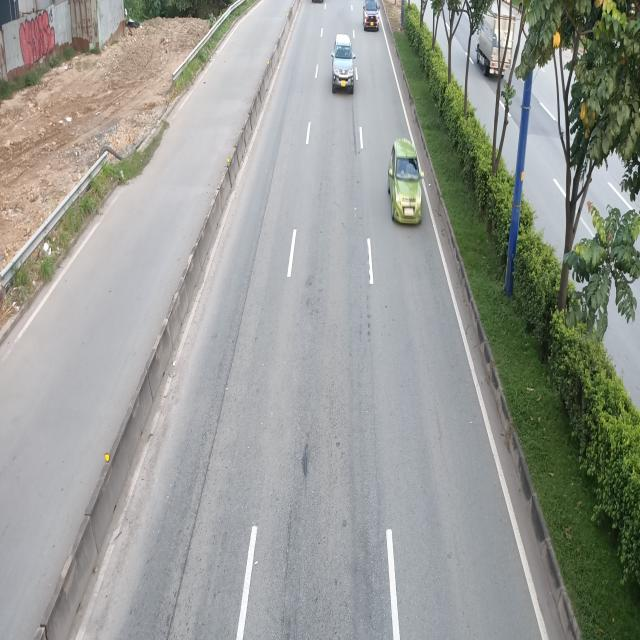car: (390, 141, 425, 230), (332, 34, 358, 94), (361, 0, 379, 32)
